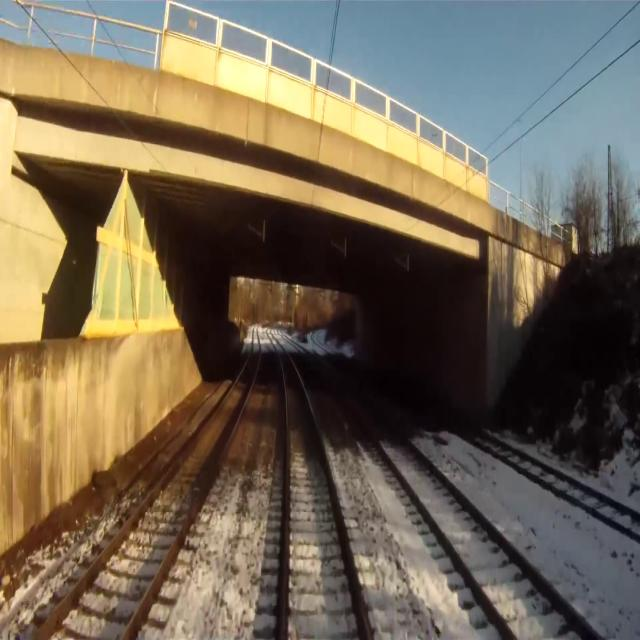rail-track: (306, 353, 596, 639), (35, 328, 259, 639), (390, 389, 640, 534), (271, 337, 369, 639)
